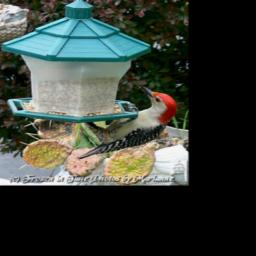Woodpecker: (76, 85, 177, 159)
